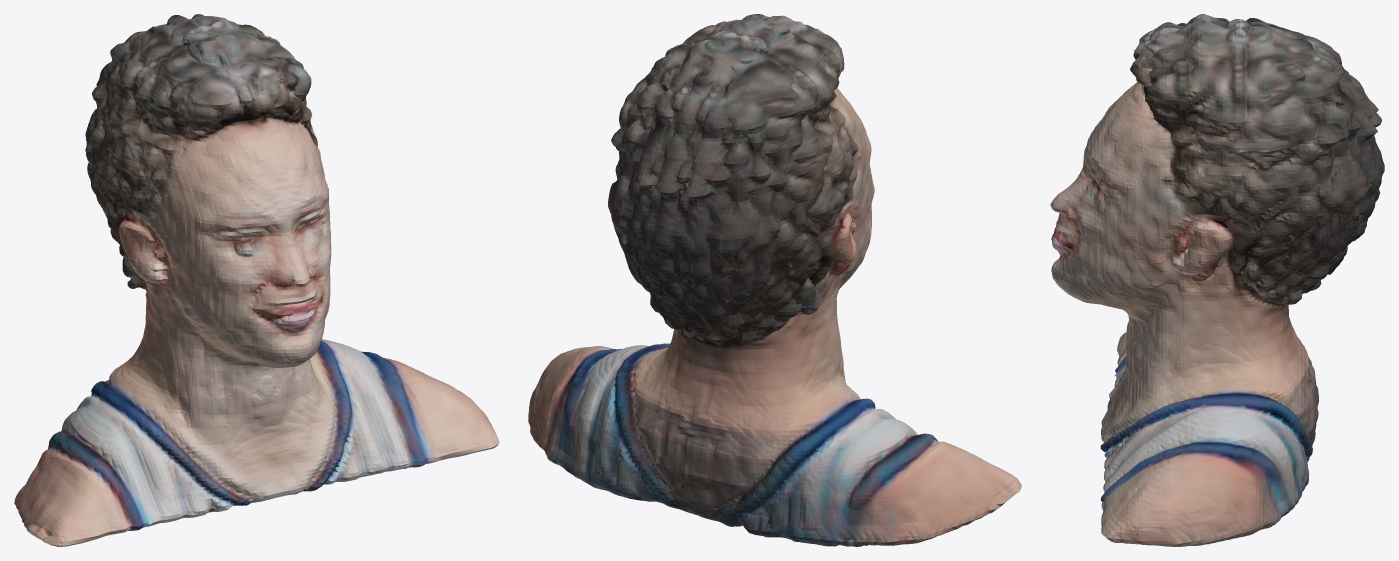
3 views of the same model, side by side, from view 1: azimuth 30°, elevation 25°; view 2: azimuth 150°, elevation 25°; view 3: azimuth 270°, elevation 25° (orthographic). The views are drawn at different scales.
Visible parts, largest first — view 1: geometry_0; view 2: geometry_0; view 3: geometry_0.
Boxes of the visible parts, x1,y1,x2,y2 form: geometry_0: [14, 14, 499, 546]; geometry_0: [528, 14, 1021, 546]; geometry_0: [1050, 14, 1384, 546].
Size of the model in its own units: 0.9794 by 0.9313 by 0.6555.
